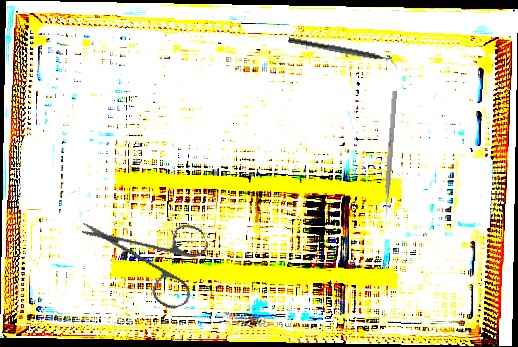Chopper: (286, 37, 400, 70)
Iris Scissors: (79, 181, 226, 331)
Pusher: (382, 90, 398, 223)
